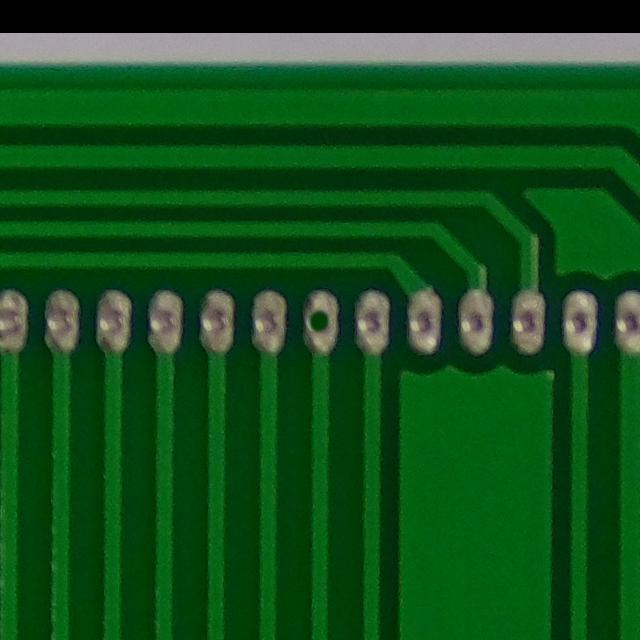missing_hole: (293, 288, 347, 352)
